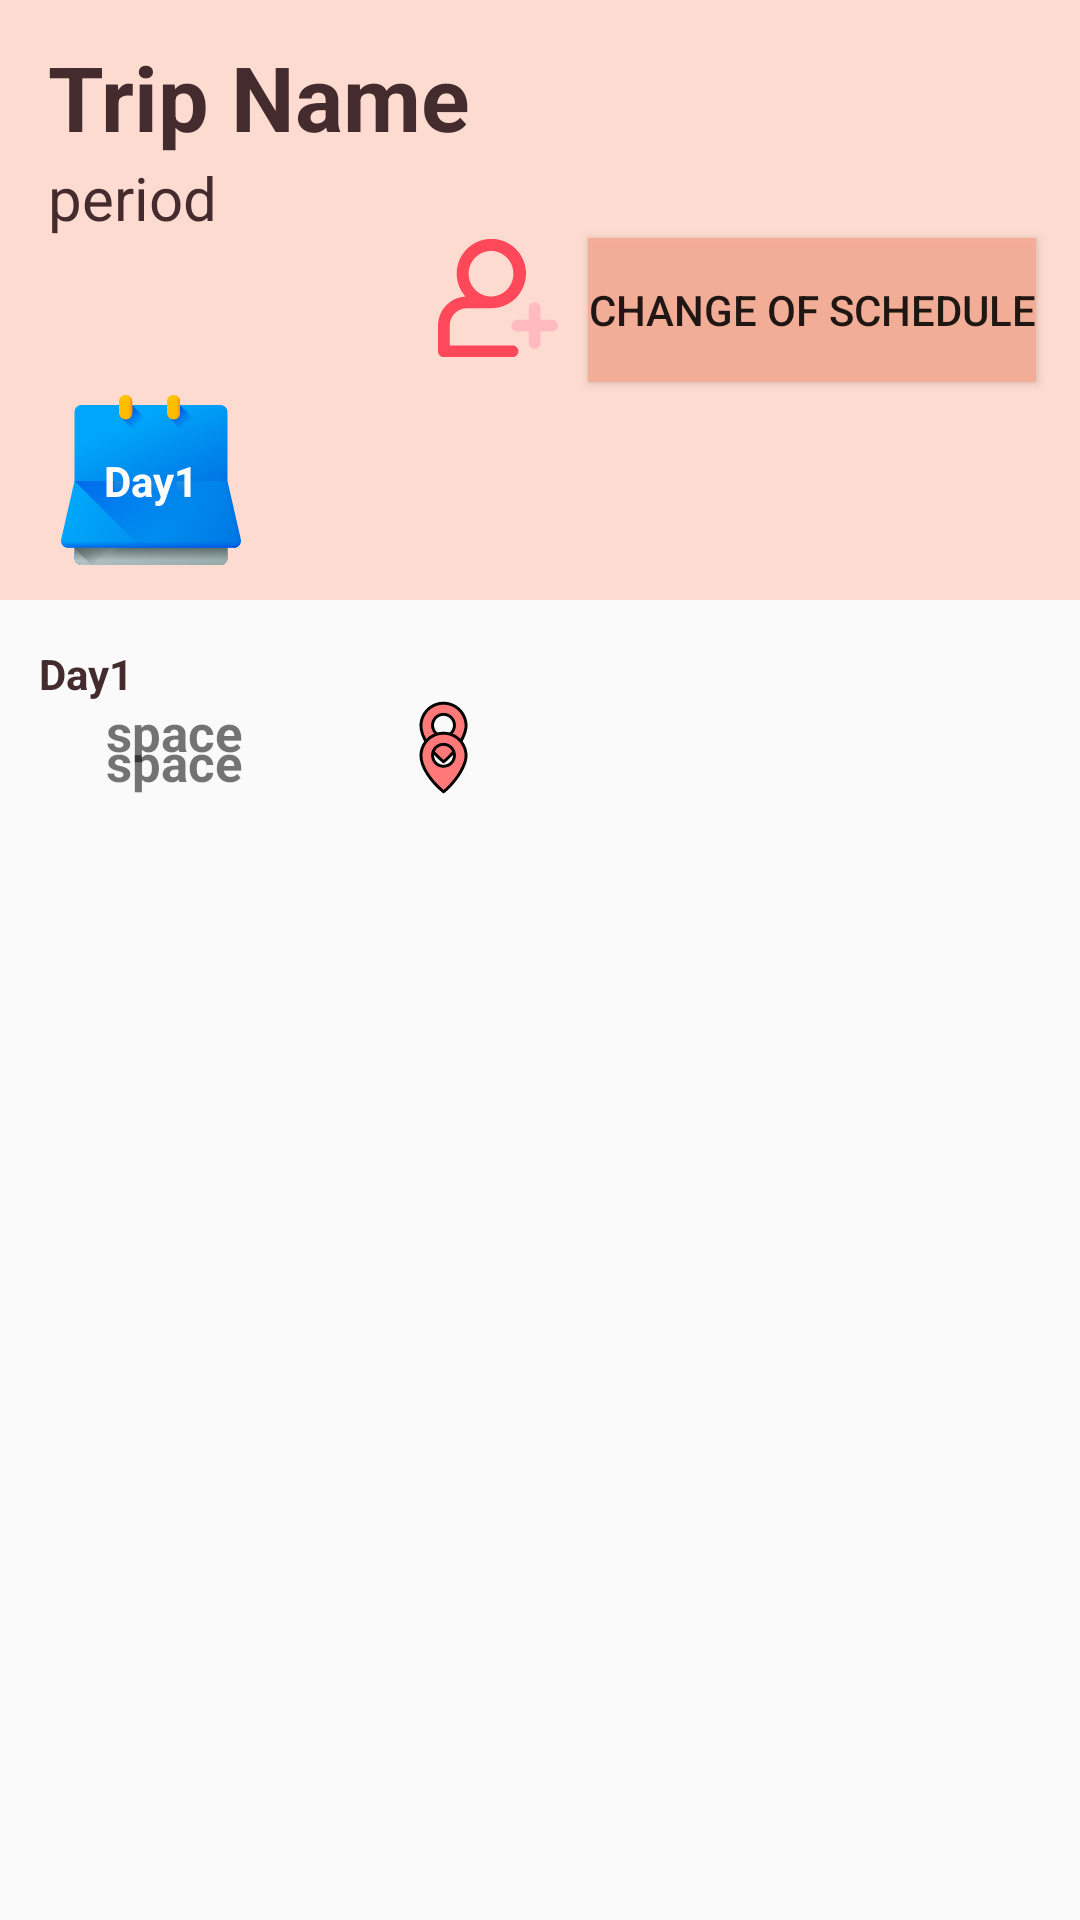

Icon bounding boxes for this 1080px x 1920px phone screenshot, format (x1, y1, x2, y2):
calendar: (61, 395, 241, 565)
user: (438, 239, 558, 357)
